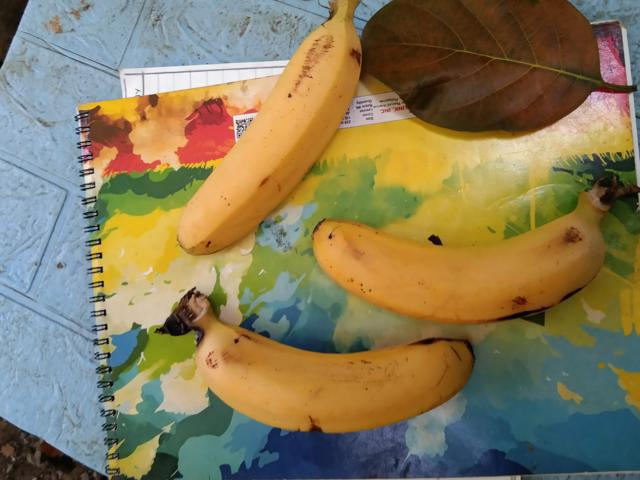freshripe: (168, 0, 385, 261), (294, 212, 635, 331)
ripe: (176, 299, 482, 463)
